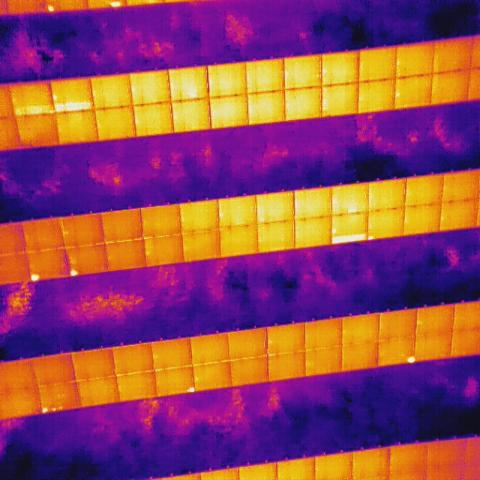fault: (52, 102, 92, 112), (330, 234, 364, 243), (29, 272, 39, 282), (69, 268, 78, 278), (108, 0, 119, 8), (50, 91, 58, 102), (185, 386, 196, 394), (46, 3, 54, 13), (347, 204, 355, 214), (406, 355, 416, 363), (330, 226, 338, 235), (40, 406, 48, 414), (368, 234, 374, 241)
